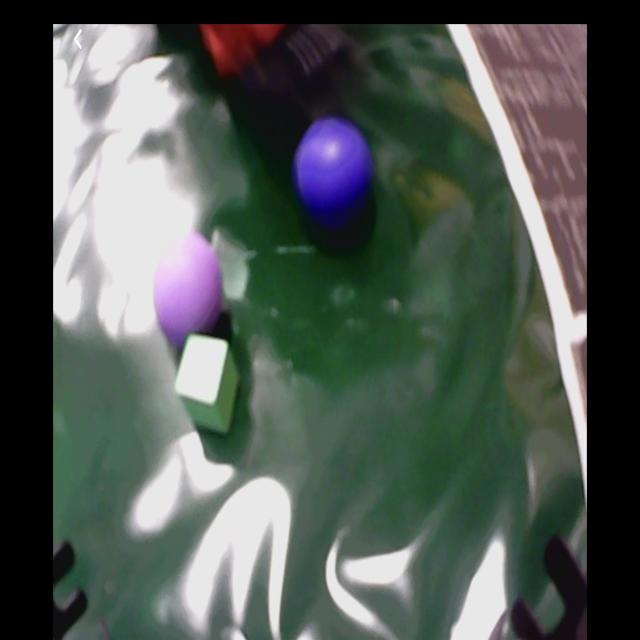ball: (154, 236, 224, 344), (296, 119, 371, 216)
